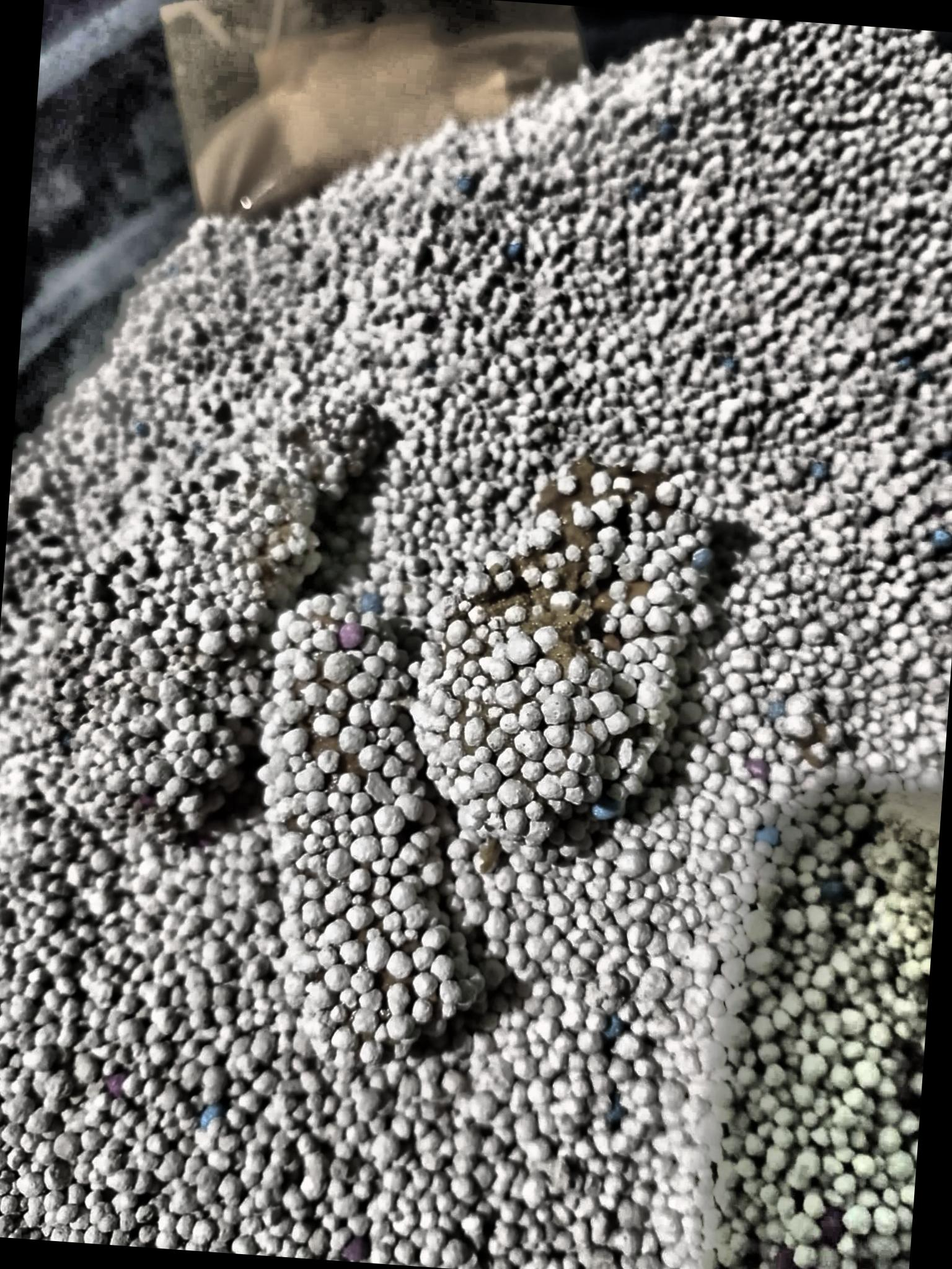poop: (406, 454, 716, 873), (110, 393, 405, 830), (254, 592, 486, 1070)
